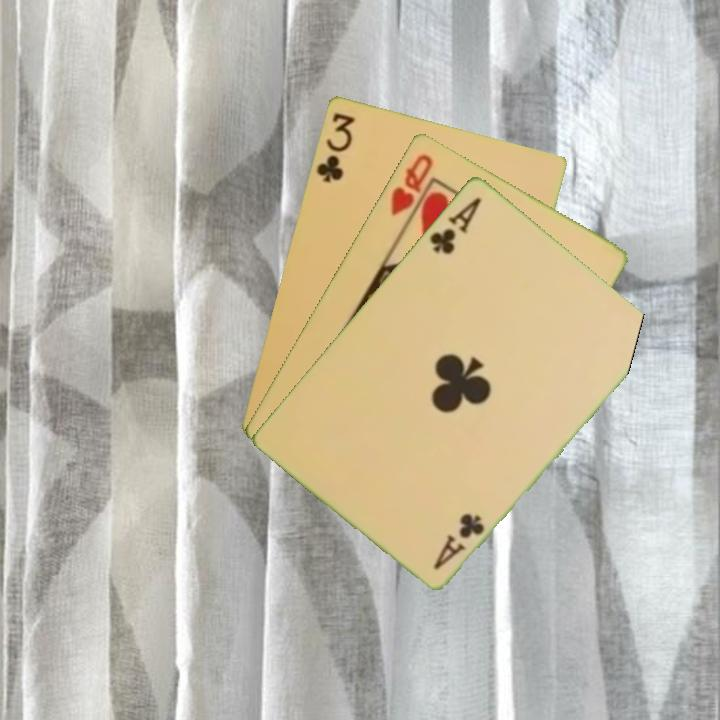3c: (312, 109, 358, 185)
Ac: (429, 509, 488, 572), (426, 193, 484, 257)
Qh: (387, 149, 436, 219)
